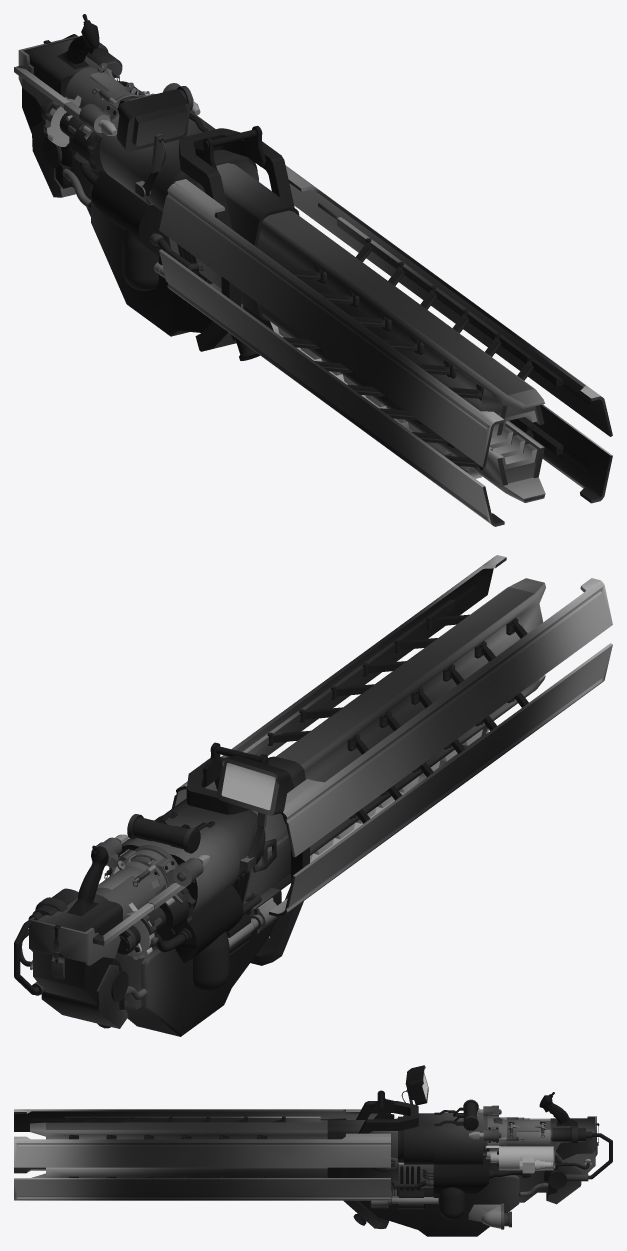
The model's file is Rail.fbx.
3 views of the same model, one above another, from view 1: azimuth 30°, elevation 25°; view 2: azimuth 150°, elevation 25°; view 3: azimuth 270°, elevation 25° (orthographic). The views are drawn at different scales.
Parts seen in each view (by area): view 1: 27_mian.gun-env_0.5_0_0; view 2: 27_mian.gun-env_0.5_0_0, 24_mian.screen_0.8_0_0; view 3: 27_mian.gun-env_0.5_0_0.
Boxes of the visible parts, x1,y1,x2,y2 form: 27_mian.gun-env_0.5_0_0: (14,14,612,526); 27_mian.gun-env_0.5_0_0: (14,555,612,1036); 24_mian.screen_0.8_0_0: (221,763,275,810); 27_mian.gun-env_0.5_0_0: (14,1065,612,1236).
Size of the model in its own units: 35.88 by 58.68 by 219.
